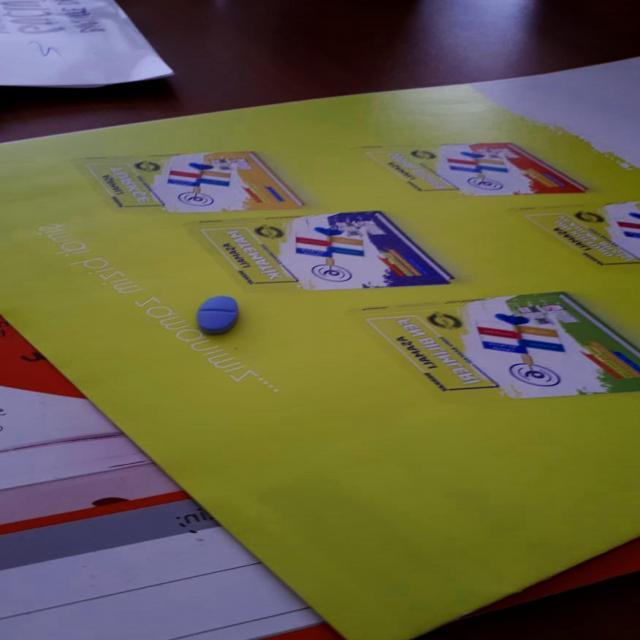pill: (194, 292, 248, 338)
